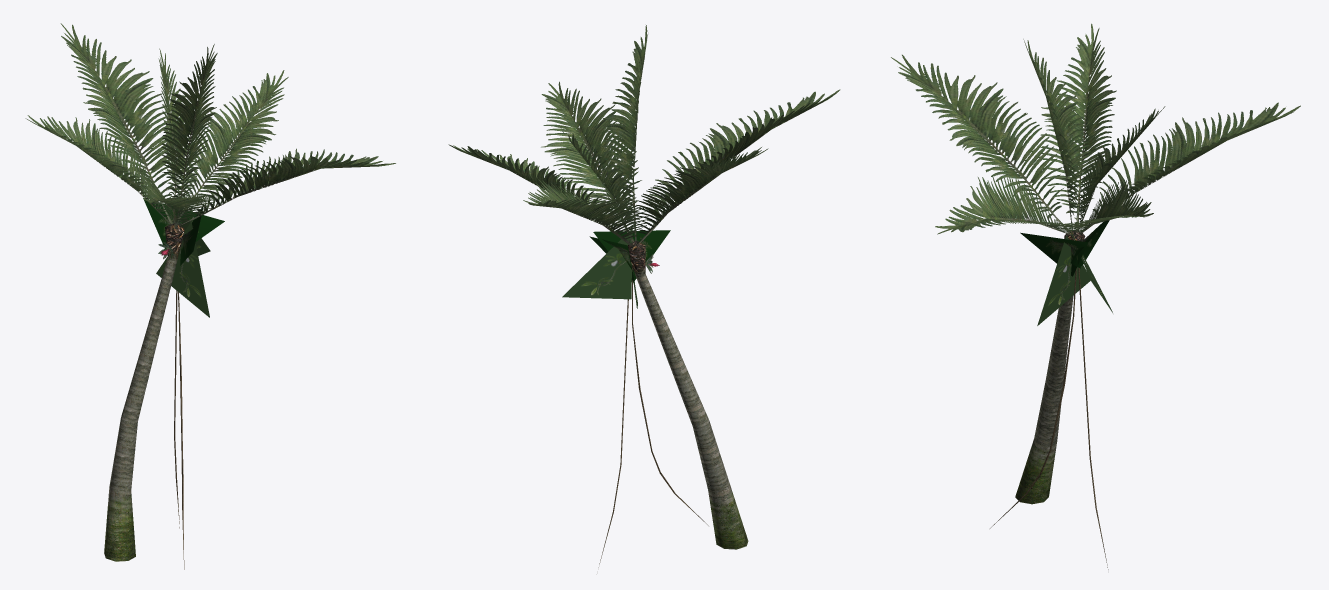
The model's file is ever_palmtree_smflora_l0.fbx.
3 renders of one model, left to right at view 1: azimuth 30°, elevation 25°; view 2: azimuth 150°, elevation 25°; view 3: azimuth 270°, elevation 25°, orthographic. The views are drawn at different scales.
Visible parts, largest first — view 1: mesh_node; view 2: mesh_node; view 3: mesh_node.
Boxes of the visible parts, bbox=[...] form: mesh_node: bbox=[25, 23, 395, 569]; mesh_node: bbox=[448, 25, 840, 567]; mesh_node: bbox=[891, 23, 1300, 569].
Size of the model in its own units: 7.76 by 12.72 by 9.15.
